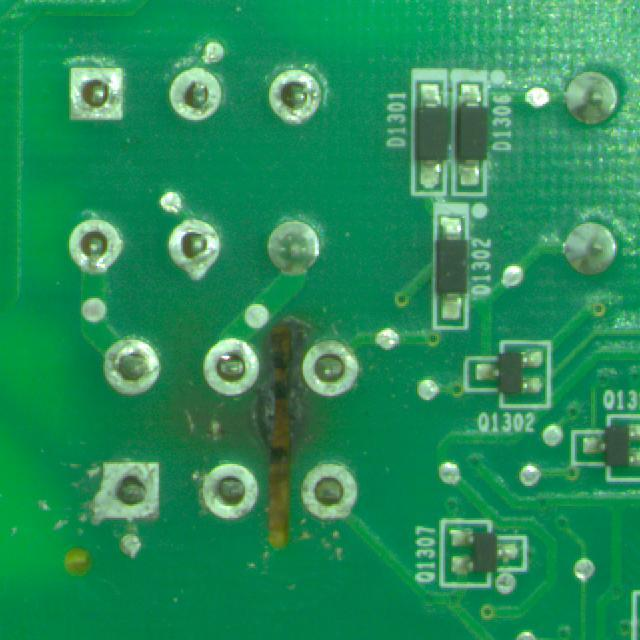oppostie_direction: (94, 463, 159, 522), (104, 338, 160, 396), (303, 340, 359, 397), (204, 338, 259, 396), (169, 219, 220, 281), (203, 464, 259, 519), (302, 464, 358, 519), (69, 219, 122, 273), (269, 70, 321, 124), (70, 67, 123, 119), (169, 68, 221, 121), (565, 71, 617, 124), (268, 221, 319, 274), (564, 223, 616, 274)
